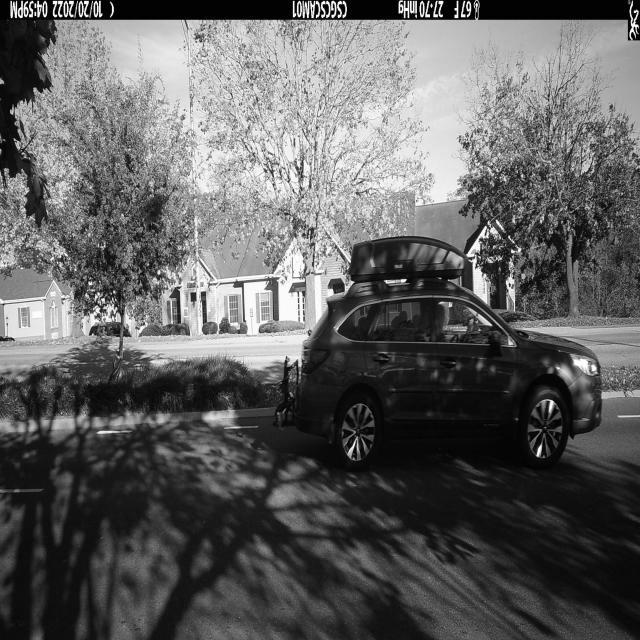SUV: (275, 236, 603, 470)
